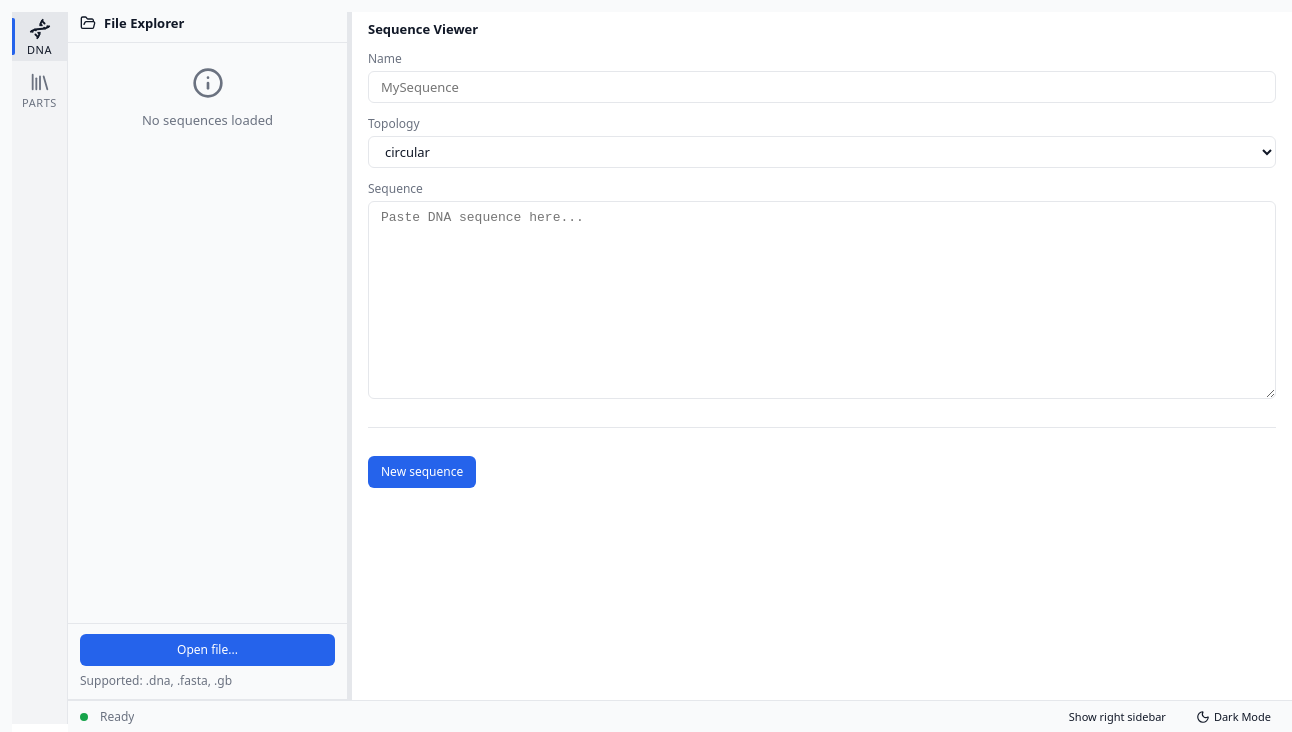
it: App scaffold › toggles right sidebar when toggle button is clicked
What coordinates should you click on to do the following:
click the button "Show right sidebar"
I would click on:
 (1117, 716)
Its box is [1060, 704, 1175, 728].
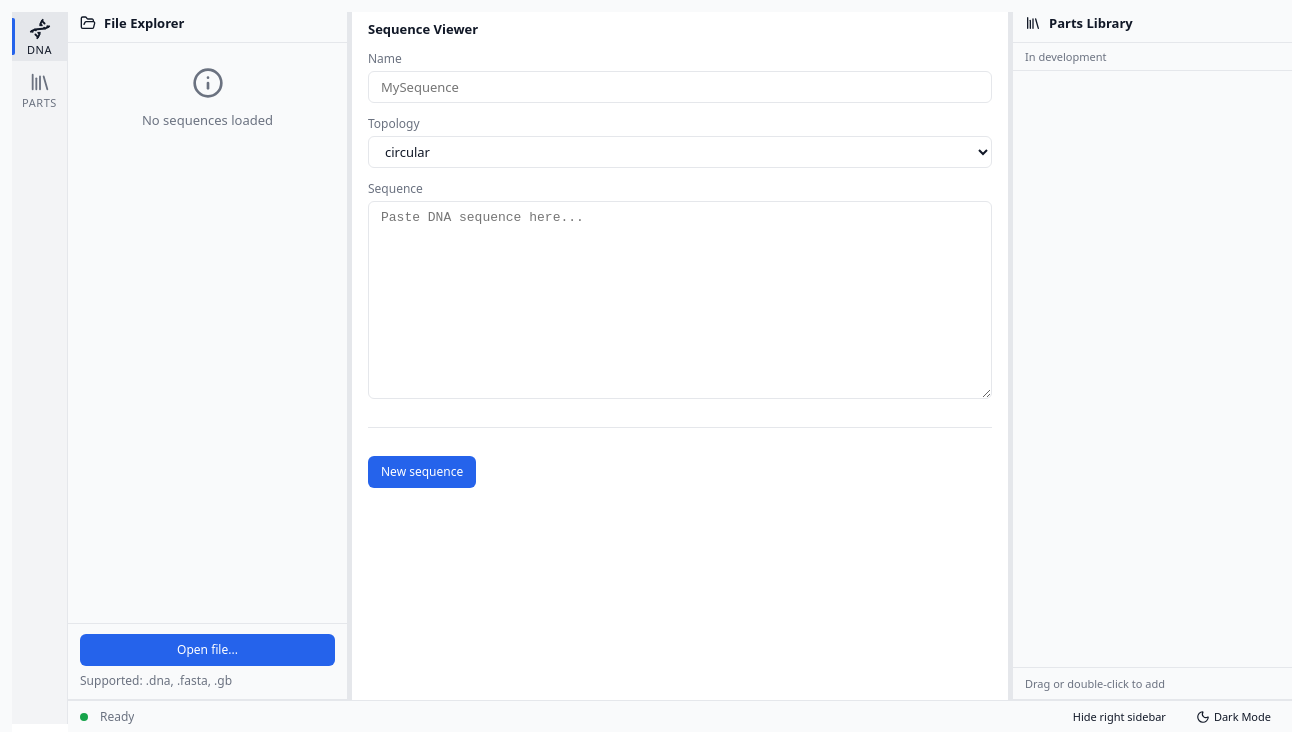
Check: the heading "Parts Library" is shown, box [1049, 14, 1133, 32]
Check: the text "In development" is shown, box [1013, 43, 1291, 71]
Check: the text "Hide right sidebar" is shown, box [1073, 711, 1166, 722]
What coordinates should you click on to do the following:
click the button "Hide right sidebar"
I would click on:
 (1119, 716)
Its box is [1064, 704, 1175, 728].
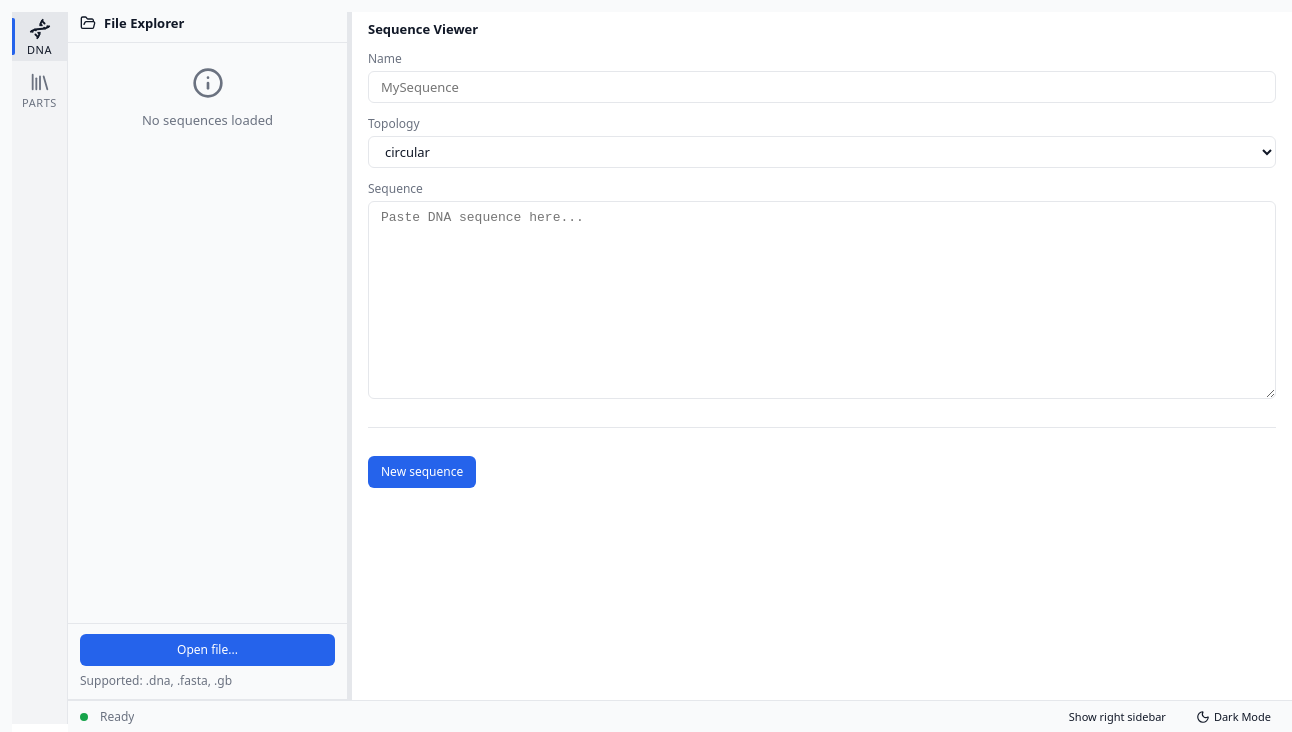
Check: the heading "Parts Library" is gone
Check: the text "Show right sidebar" is shown, box [1069, 711, 1166, 722]
